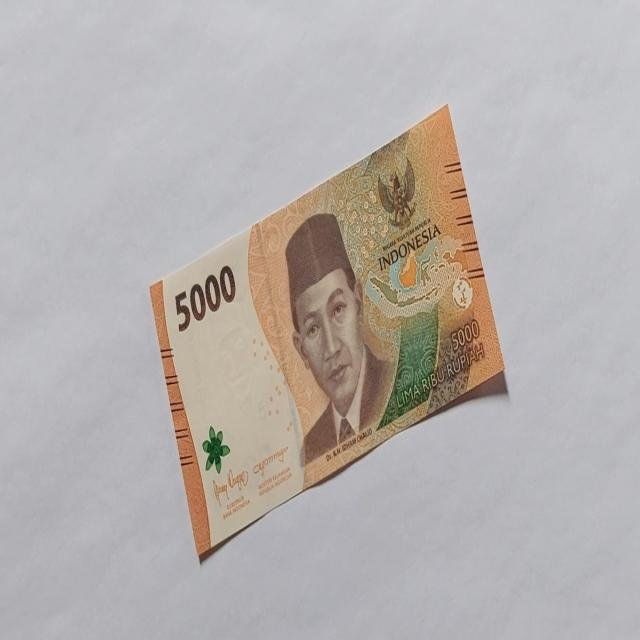lima ribu rupiah: (146, 105, 508, 567), (283, 211, 394, 468)
